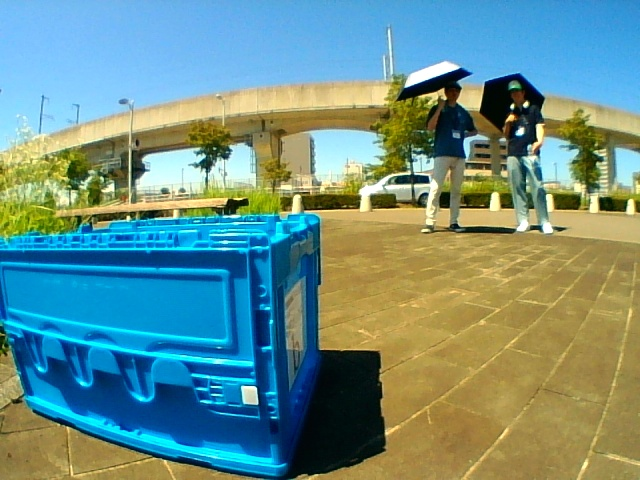blue_box: (25, 235, 313, 406)
tag_b: (290, 287, 304, 377)
